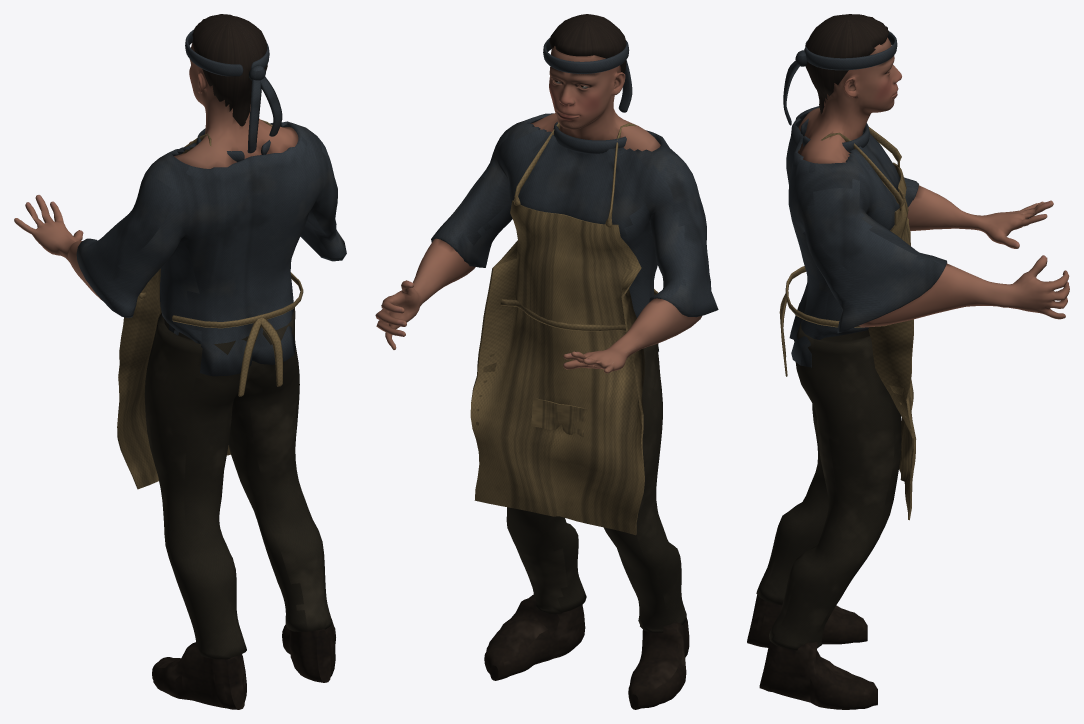
Rendered from ramen_vendor.glb.
3 views of the same model, side by side, from view 1: azimuth 30°, elevation 25°; view 2: azimuth 150°, elevation 25°; view 3: azimuth 270°, elevation 25° (orthographic). The views are drawn at different scales.
Visible parts, largest first — view 1: ramen_vendor; view 2: ramen_vendor; view 3: ramen_vendor.
Part boxes in pixels (left/top/right/bottom): ramen_vendor: left=14, top=14, right=346, bottom=709; ramen_vendor: left=375, top=14, right=718, bottom=709; ramen_vendor: left=747, top=14, right=1069, bottom=709.
Size of the model in its own units: 0.6755 by 1.74 by 0.7805.
Materials: 6 (6 with a texture image).
